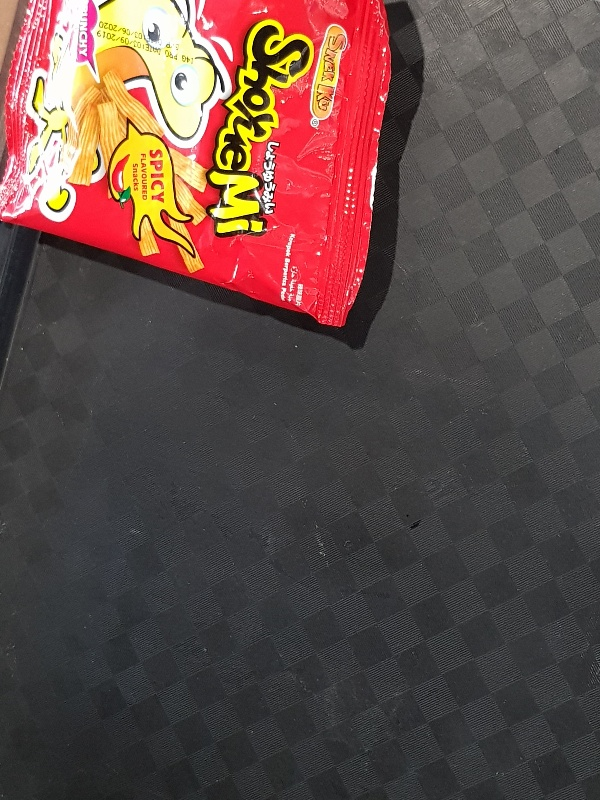ShoyueMi Spicy Flavoured Snacks: (1, 1, 393, 328)
